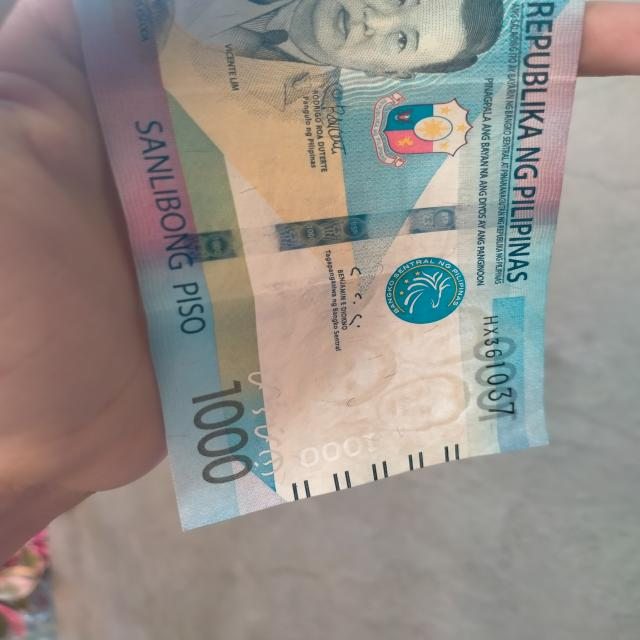security_thread: (124, 198, 559, 260)
see_through_mark: (245, 365, 289, 480)
value_watermark: (297, 430, 379, 464)
watermark: (283, 296, 493, 439)
